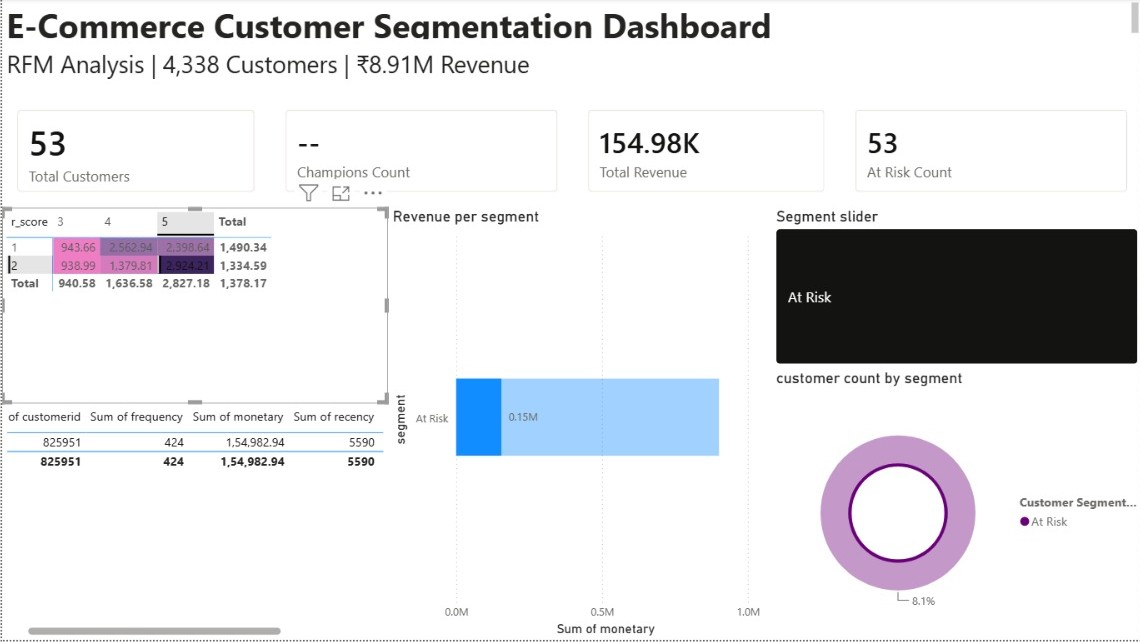

The dashboard page shown, as its layout file describes it:
{"tool":"powerbi","page":{"name":"Page 1","canvas":[1280,720],"ordinal":0},"visuals":[{"type":"cardVisual","fields":{"Data":["Count(powerbi_rfm.customerid)"]},"box":[0,108.2,300.9,126.8],"z":0},{"type":"cardVisual","fields":{"Data":["Sum(powerbi_rfm.monetary)"]},"box":[640.7,108.2,299.2,126.8],"z":1000},{"type":"cardVisual","fields":{"Data":["powerbi_rfm.Champions Count"]},"box":[300.9,108.2,339.8,126.8],"z":2000},{"type":"donutChart","title":"customer count by segment","fields":{"Category":["powerbi_rfm.segment"],"Y":["Count(powerbi_rfm.customerid)"]},"box":[863.9,415.9,415.9,304.3],"z":3000},{"type":"clusteredBarChart","title":"Revenue per segment","fields":{"Category":["powerbi_rfm.segment"],"Y":["Sum(powerbi_rfm.monetary)"]},"box":[432.8,235,431.1,485.2],"z":4000},{"type":"cardVisual","fields":{"Data":["powerbi_rfm.At Risk Count"]},"box":[939.9,108.2,339.8,126.8],"z":5000},{"type":"textbox","box":[0,0,1279.7,50.7],"z":6000},{"type":"textbox","box":[0,50.7,1279.7,57.5],"z":7000},{"type":"pivotTable","fields":{"Rows":["powerbi_rfm.r_score"],"Columns":["powerbi_rfm.f_score"],"Values":["Avg(powerbi_rfm.monetary)"]},"box":[0,235,432.8,219.8],"z":8000},{"type":"tableEx","fields":{"Values":["Sum(powerbi_rfm.customerid)","Sum(powerbi_rfm.frequency)","Sum(powerbi_rfm.monetary)","Sum(powerbi_rfm.recency)","Sum(powerbi_rfm.rfm_score)","powerbi_rfm.segment"]},"box":[0,454.8,432.8,265.4],"z":9000},{"type":"advancedSlicerVisual","title":"Segment slider","fields":{"Values":["powerbi_rfm.segment"]},"box":[863.9,235,415.9,180.9],"z":10000}]}

Visuals, with their boxes in screenshot pixels (x1, y1, x2, y2), scaled from the page's 1280x720 canvas onto the 1140x642 screenshot:
cardVisual - Count(powerbi_rfm.customerid): [0,96,268,210]
cardVisual - Sum(powerbi_rfm.monetary): [571,96,837,210]
cardVisual - powerbi_rfm.Champions Count: [268,96,571,210]
"customer count by segment" donutChart: [769,371,1139,641]
"Revenue per segment" clusteredBarChart: [385,210,769,641]
cardVisual - powerbi_rfm.At Risk Count: [837,96,1139,210]
textbox: [0,0,1139,45]
textbox: [0,45,1139,96]
pivotTable - powerbi_rfm.r_score x powerbi_rfm.f_score: [0,210,385,406]
tableEx - Sum(powerbi_rfm.customerid) x Sum(powerbi_rfm.frequency): [0,406,385,641]
"Segment slider" advancedSlicerVisual: [769,210,1139,371]
